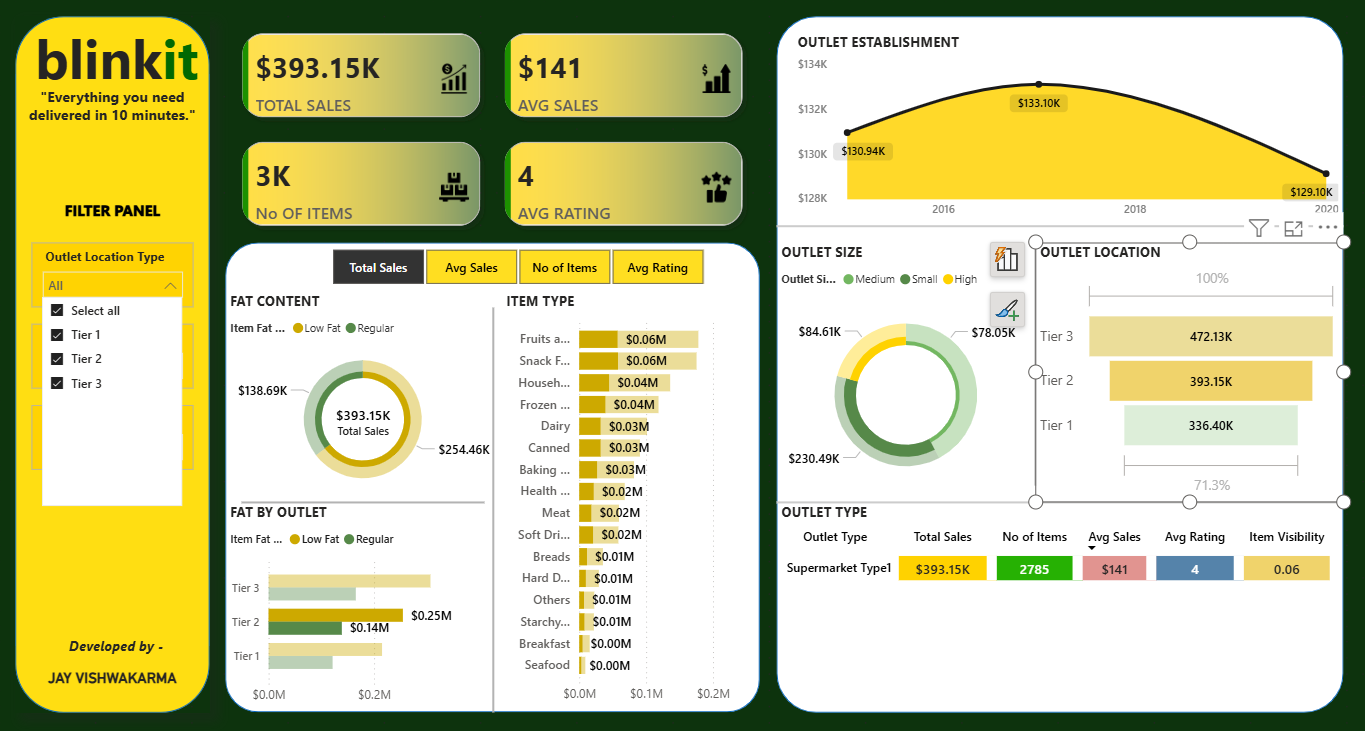

What the dashboard file says about the page in this screenshot:
{"tool":"powerbi","page":{"name":"Page 1","canvas":[1350,726],"ordinal":0},"visuals":[{"type":"shape","box":[16,16,192,688],"z":0},{"type":"textbox","box":[16,16,192,144],"z":1000},{"type":"textbox","box":[16,80,192,128],"z":2000},{"type":"cardVisual","fields":{"Data":["BlinkIT Grocery Data.Total Sales","BlinkIT Grocery Data.Avg Sales","BlinkIT Grocery Data.No of Items","BlinkIT Grocery Data.Avg Rating"]},"box":[224,16,528,224],"z":3000},{"type":"shape","box":[224,240,528,464],"z":4000},{"type":"donutChart","title":"FAT CONTENT","fields":{"Y":["BlinkIT Grocery Data.Total Sales"],"Category":["BlinkIT Grocery Data.Item Fat Content"]},"box":[224,288,272,208],"z":5000},{"type":"slicer","fields":{"Values":["Metrics.Metrics"]},"box":[304,240,416,48],"z":6000},{"type":"cardVisual","fields":{"Data":["BlinkIT Grocery Data.Total Sales"]},"box":[304,384,112,64],"z":7000},{"type":"clusteredBarChart","title":"FAT BY OUTLET","fields":{"Y":["BlinkIT Grocery Data.Total Sales"],"Category":["BlinkIT Grocery Data.Outlet Location Type"],"Series":["BlinkIT Grocery Data.Item Fat Content"]},"box":[224,496,272,208],"z":8000},{"type":"shape","box":[240,480,240,32],"z":9000},{"type":"shape","box":[464,304,48,400],"z":10000},{"type":"barChart","title":"ITEM TYPE","fields":{"Y":["BlinkIT Grocery Data.Total Sales"],"Category":["BlinkIT Grocery Data.Item Type"]},"box":[496,288,256,416],"z":11000},{"type":"shape","box":[768,16,560,688],"z":12000},{"type":"lineChart","title":"OUTLET ESTABLISHMENT","fields":{"Y":["BlinkIT Grocery Data.Total Sales"],"Category":["BlinkIT Grocery Data.Outlet Establishment Year"]},"box":[784,32,544,192],"z":13000},{"type":"donutChart","title":"OUTLET SIZE","fields":{"Y":["BlinkIT Grocery Data.Total Sales"],"Category":["BlinkIT Grocery Data.Outlet Size"]},"box":[768,240,256,256],"z":14000},{"type":"funnel","title":"OUTLET LOCATION","fields":{"Y":["Sum(BlinkIT Grocery Data.Sales)"],"Category":["BlinkIT Grocery Data.Outlet Location Type"]},"box":[1024,240,304,256],"z":15000},{"type":"pivotTable","title":"OUTLET TYPE","fields":{"Rows":["BlinkIT Grocery Data.Outlet Type"],"Values":["BlinkIT Grocery Data.Total Sales","BlinkIT Grocery Data.No of Items","BlinkIT Grocery Data.Avg Sales","BlinkIT Grocery Data.Avg Rating","Avg(BlinkIT Grocery Data.Item Visibility)"]},"box":[768,496,560,192],"z":16000},{"type":"shape","box":[768,208,560,32],"z":17000},{"type":"shape","box":[1008,240,32,240],"z":18000},{"type":"shape","box":[768,464,560,64],"z":19000},{"type":"slicer","fields":{"Values":["BlinkIT Grocery Data.Outlet Location Type"]},"box":[32,240,160,64],"z":20000},{"type":"slicer","fields":{"Values":["BlinkIT Grocery Data.Outlet Size"]},"box":[32,320,160,64],"z":21000},{"type":"slicer","fields":{"Values":["BlinkIT Grocery Data.Item Type"]},"box":[32,400,160,64],"z":22000},{"type":"textbox","box":[32,192,160,32],"z":23000},{"type":"textbox","box":[64,624,112,32],"z":24000},{"type":"textbox","box":[16,656,192,32],"z":25000}]}

Visuals, with their boxes in screenshot pixels (x1, y1, x2, y2), scaled from the page's 1350x726 canvas onto the 1365x731 screenshot:
shape: x1=16, y1=16, x2=210, y2=709
textbox: x1=16, y1=16, x2=210, y2=161
textbox: x1=16, y1=81, x2=210, y2=209
cardVisual - BlinkIT Grocery Data.Total Sales x BlinkIT Grocery Data.Avg Sales: x1=226, y1=16, x2=760, y2=242
shape: x1=226, y1=242, x2=760, y2=709
"FAT CONTENT" donutChart: x1=226, y1=290, x2=502, y2=499
slicer - Metrics.Metrics: x1=307, y1=242, x2=728, y2=290
cardVisual - BlinkIT Grocery Data.Total Sales: x1=307, y1=387, x2=421, y2=451
"FAT BY OUTLET" clusteredBarChart: x1=226, y1=499, x2=502, y2=709
shape: x1=243, y1=483, x2=485, y2=516
shape: x1=469, y1=306, x2=518, y2=709
"ITEM TYPE" barChart: x1=502, y1=290, x2=760, y2=709
shape: x1=777, y1=16, x2=1343, y2=709
"OUTLET ESTABLISHMENT" lineChart: x1=793, y1=32, x2=1343, y2=226
"OUTLET SIZE" donutChart: x1=777, y1=242, x2=1035, y2=499
"OUTLET LOCATION" funnel: x1=1035, y1=242, x2=1343, y2=499
"OUTLET TYPE" pivotTable: x1=777, y1=499, x2=1343, y2=693
shape: x1=777, y1=209, x2=1343, y2=242
shape: x1=1019, y1=242, x2=1052, y2=483
shape: x1=777, y1=467, x2=1343, y2=532
slicer - BlinkIT Grocery Data.Outlet Location Type: x1=32, y1=242, x2=194, y2=306
slicer - BlinkIT Grocery Data.Outlet Size: x1=32, y1=322, x2=194, y2=387
slicer - BlinkIT Grocery Data.Item Type: x1=32, y1=403, x2=194, y2=467
textbox: x1=32, y1=193, x2=194, y2=226
textbox: x1=65, y1=628, x2=178, y2=661
textbox: x1=16, y1=661, x2=210, y2=693
